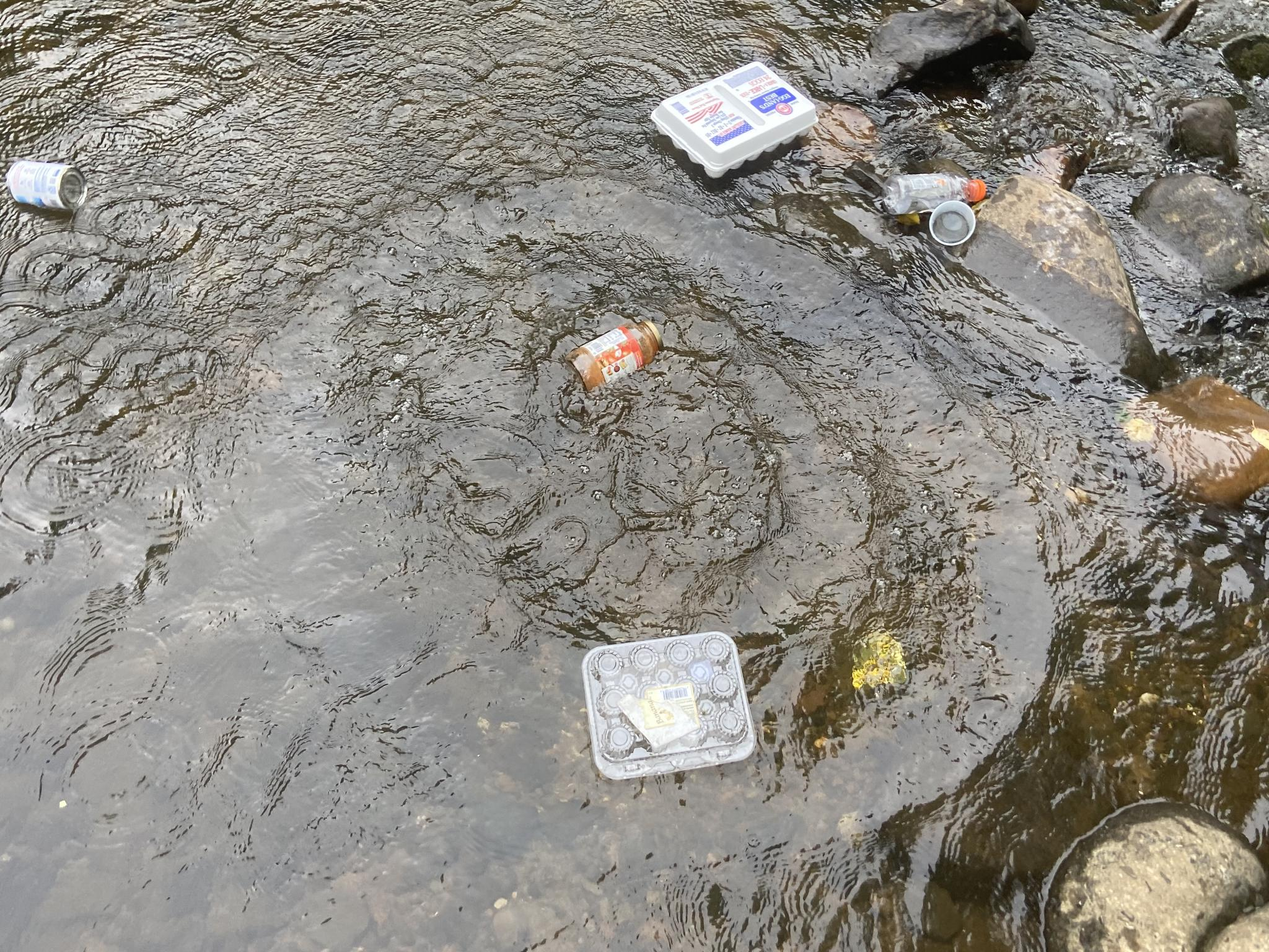glass: (598, 560, 712, 637)
metal: (1165, 735, 1269, 801), (352, 254, 431, 326)
plastic: (504, 156, 706, 332), (438, 770, 641, 907), (266, 727, 394, 787), (284, 689, 345, 762)
